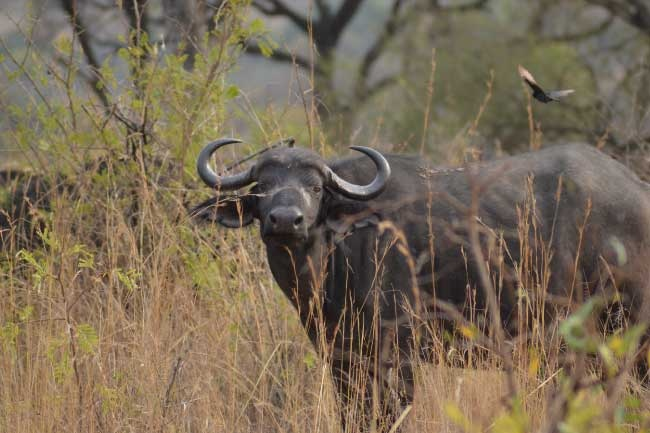buffalo: (193, 139, 646, 428)
